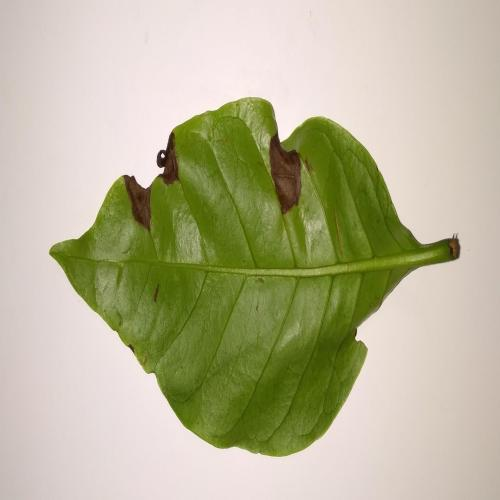miner: (270, 121, 302, 213)
